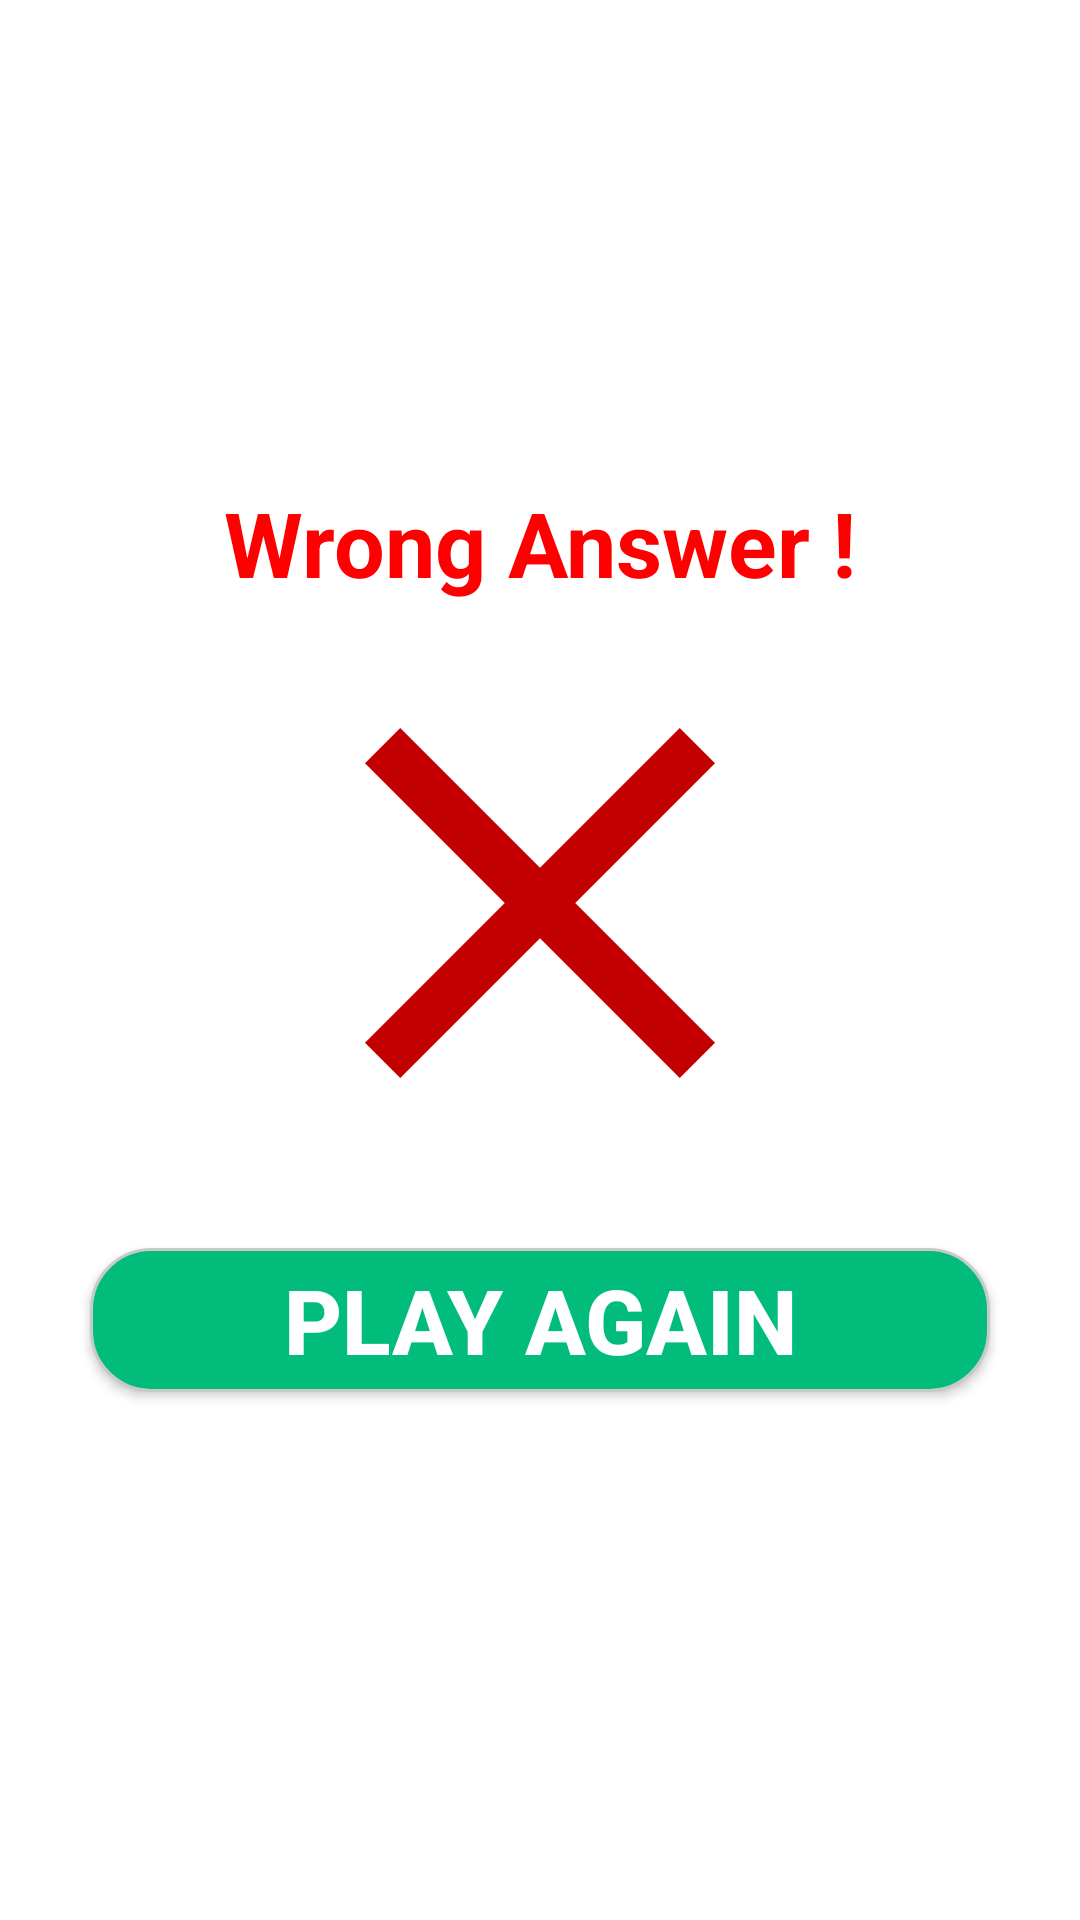

Named icons in this screenshot (1080*1920) and their centers, (x=x, y=y):
clear: (x=540, y=903)
